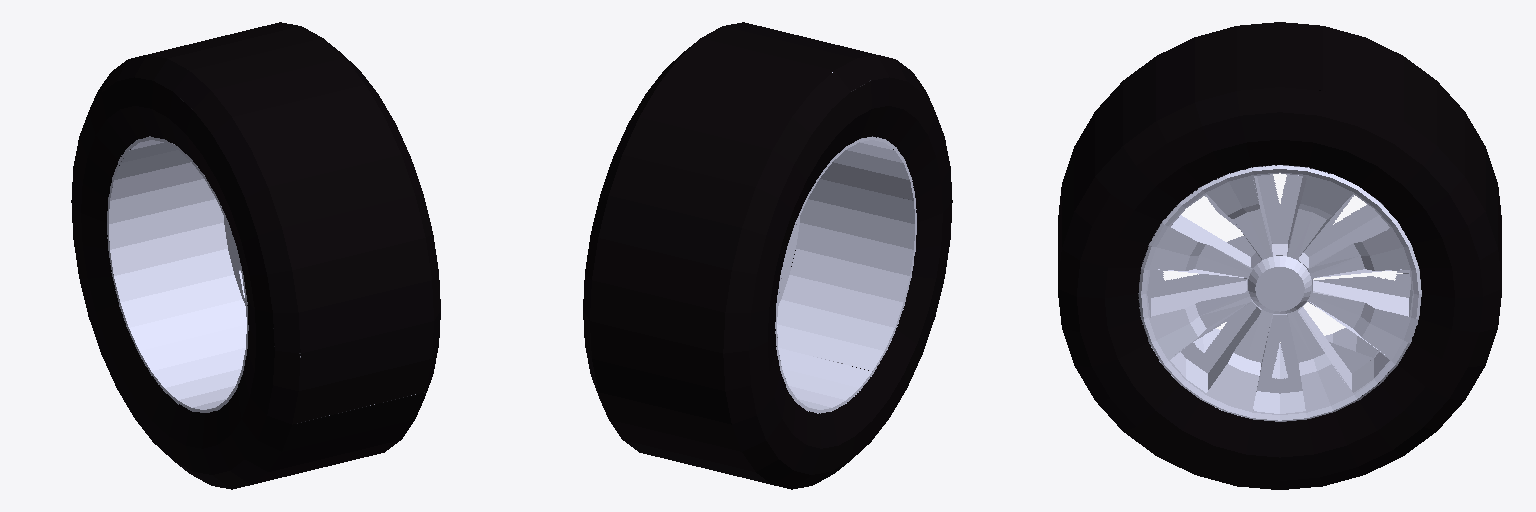
3 views of the same model, side by side, from view 1: azimuth 30°, elevation 25°; view 2: azimuth 150°, elevation 25°; view 3: azimuth 270°, elevation 25° (orthographic).
Visible parts, largest first — view 1: Cylinder.001; view 2: Cylinder.001; view 3: Cylinder.001.
Boxes of the visible parts, x1=… form: Cylinder.001: x1=71, y1=22, x2=440, y2=489; Cylinder.001: x1=583, y1=22, x2=952, y2=489; Cylinder.001: x1=1058, y1=22, x2=1501, y2=489.
Size of the model in its own units: 0.7249 by 1.6 by 1.6.
Materials: 1 (1 with a texture image).